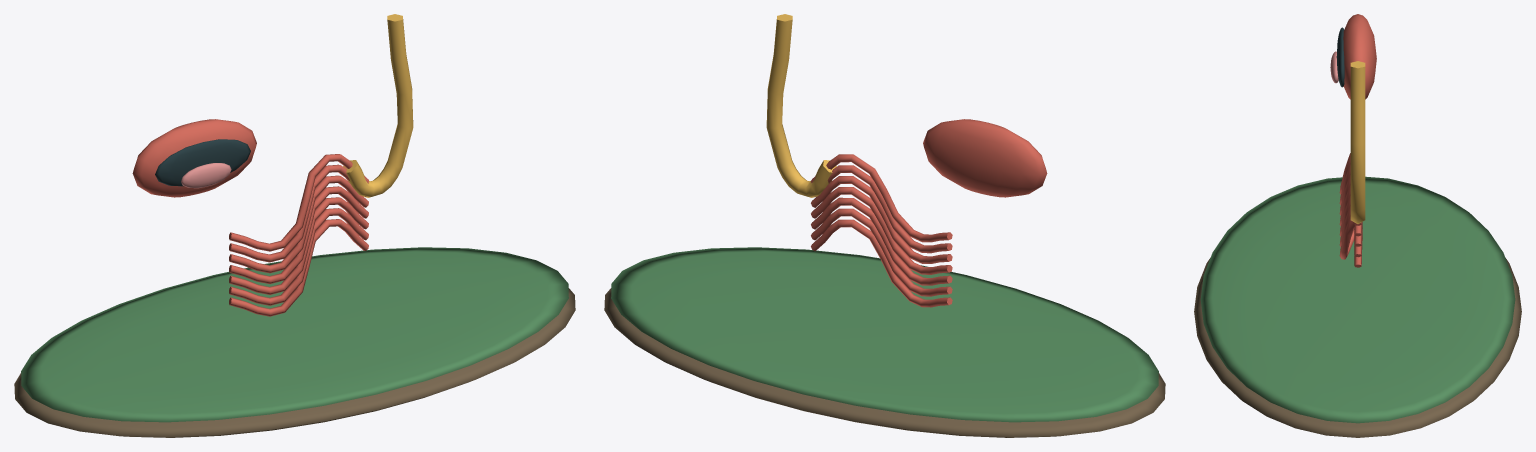
File: complete-second-tongue-hook-disorder.glb
3 views of the same model, side by side, from view 1: azimuth 30°, elevation 25°; view 2: azimuth 150°, elevation 25°; view 3: azimuth 270°, elevation 25° (orthographic). The views are drawn at different scales.
Visible parts, largest first — view 1: complete-second-tongue-hook-disorder_surface_01, complete-second-tongue-hook-disorder_surface_02, complete-second-tongue-hook-disorder_surface_00, complete-second-tongue-hook-disorder_surface_05, complete-second-tongue-hook-disorder_surface_03, complete-second-tongue-hook-disorder_surface_04; view 2: complete-second-tongue-hook-disorder_surface_01, complete-second-tongue-hook-disorder_surface_02, complete-second-tongue-hook-disorder_surface_00, complete-second-tongue-hook-disorder_surface_05; view 3: complete-second-tongue-hook-disorder_surface_01, complete-second-tongue-hook-disorder_surface_00, complete-second-tongue-hook-disorder_surface_02, complete-second-tongue-hook-disorder_surface_05, complete-second-tongue-hook-disorder_surface_03.
Boxes of the visible parts, x1=… form: complete-second-tongue-hook-disorder_surface_01: x1=21, y1=247, x2=568, y2=422; complete-second-tongue-hook-disorder_surface_02: x1=132, y1=119, x2=368, y2=316; complete-second-tongue-hook-disorder_surface_00: x1=14, y1=288, x2=575, y2=437; complete-second-tongue-hook-disorder_surface_05: x1=343, y1=14, x2=413, y2=197; complete-second-tongue-hook-disorder_surface_03: x1=155, y1=139, x2=250, y2=186; complete-second-tongue-hook-disorder_surface_04: x1=181, y1=163, x2=231, y2=188; complete-second-tongue-hook-disorder_surface_01: x1=611, y1=247, x2=1158, y2=422; complete-second-tongue-hook-disorder_surface_02: x1=811, y1=119, x2=1047, y2=307; complete-second-tongue-hook-disorder_surface_00: x1=604, y1=288, x2=1165, y2=437; complete-second-tongue-hook-disorder_surface_05: x1=766, y1=14, x2=836, y2=197; complete-second-tongue-hook-disorder_surface_01: x1=1200, y1=176, x2=1515, y2=423; complete-second-tongue-hook-disorder_surface_00: x1=1194, y1=258, x2=1521, y2=437; complete-second-tongue-hook-disorder_surface_02: x1=1339, y1=14, x2=1376, y2=267; complete-second-tongue-hook-disorder_surface_05: x1=1350, y1=61, x2=1365, y2=223; complete-second-tongue-hook-disorder_surface_03: x1=1336, y1=27, x2=1344, y2=87.
Size of the model in its own units: 4.56 by 2.6 by 2.5.
